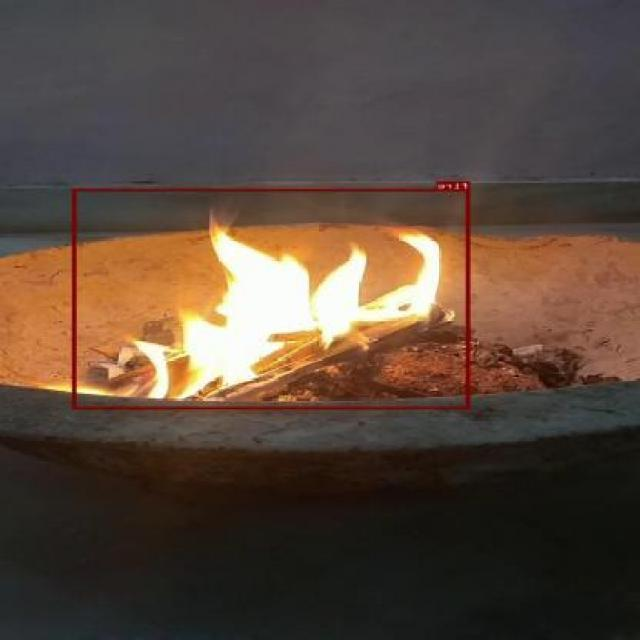Fire: (74, 189, 471, 409)
